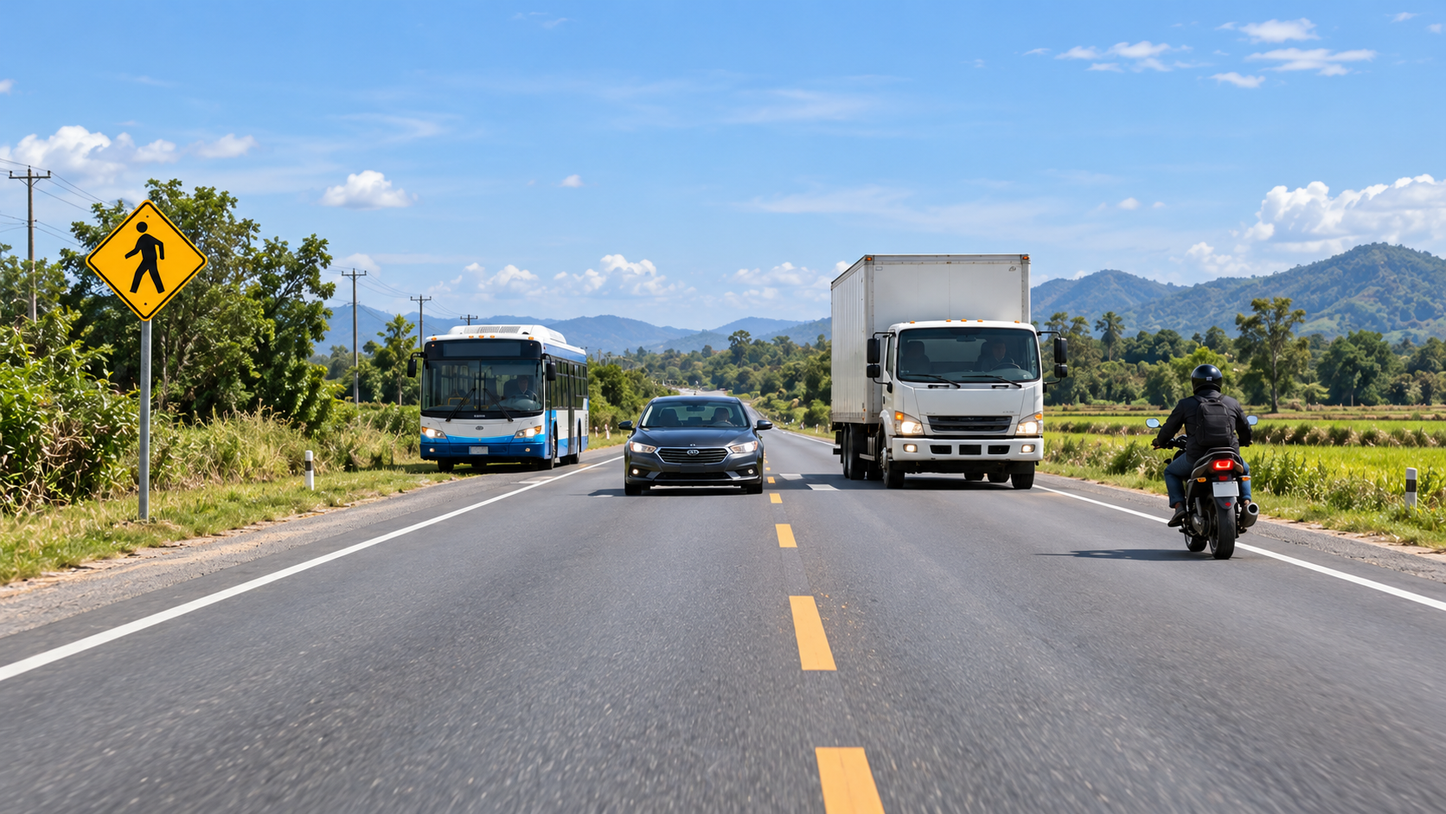bus: (400, 327, 591, 471)
car: (619, 391, 770, 497)
crossing_warning_sign: (85, 170, 208, 297)
motorcycle: (1139, 358, 1293, 561)
person: (1163, 362, 1284, 511)
truck: (828, 252, 1072, 497)
